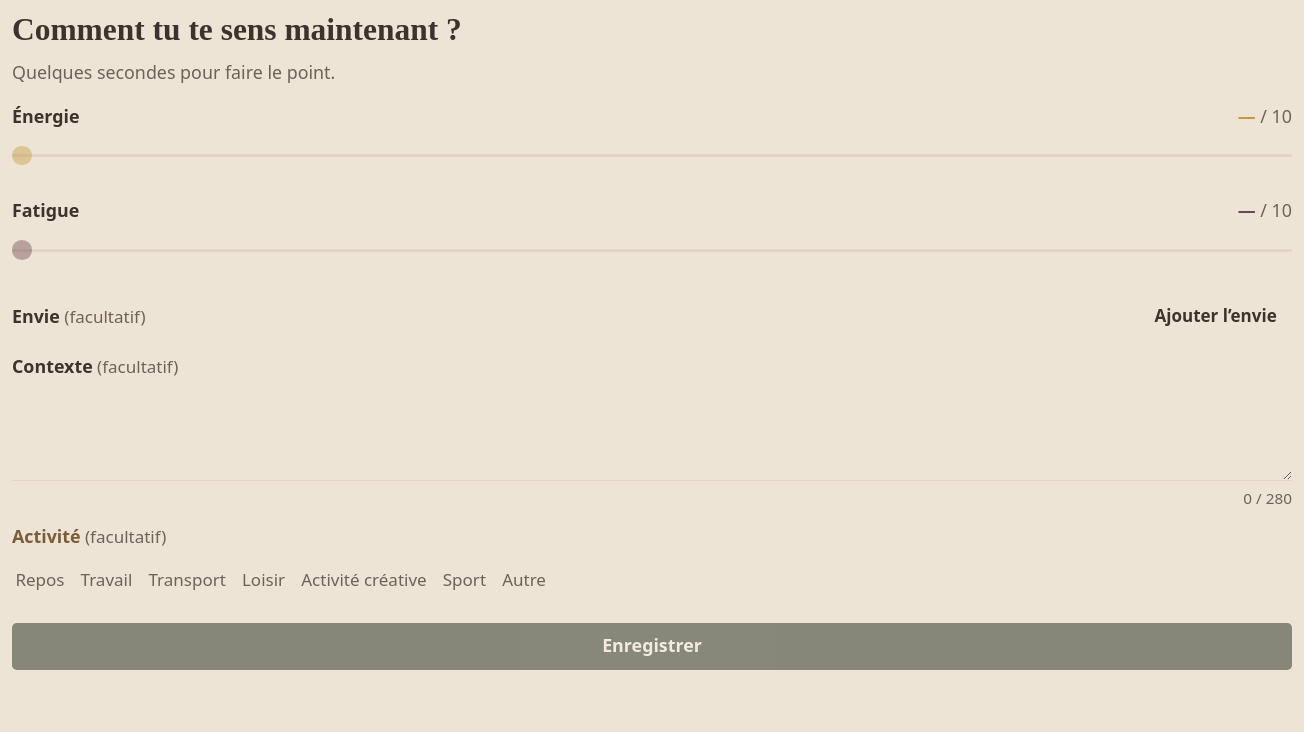
Test: LogPage › erreur API : message clair et valeurs conservées
The image size is (1304, 732).
Press the mouse on the slider labelled "Énergie" at point(652, 156), box 12,132 -> 1292,179
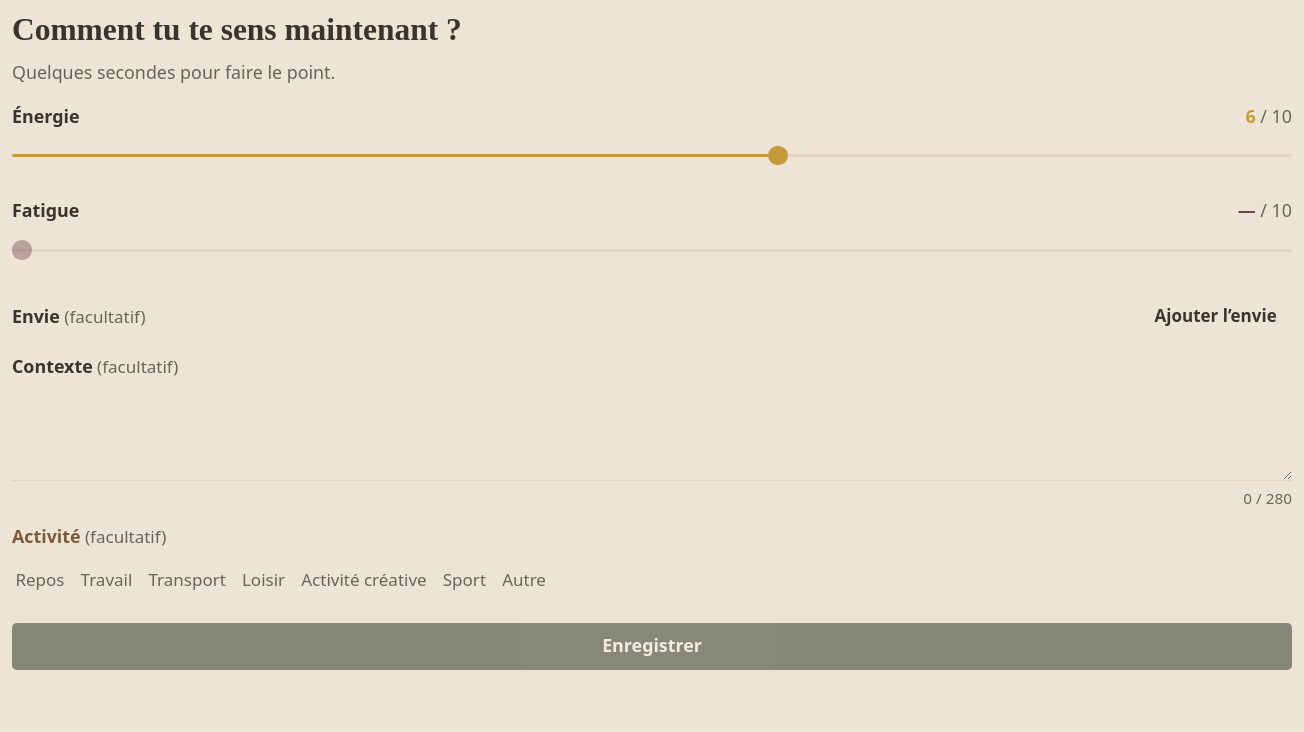
Press the mouse on the slider labelled "Fatigue" at point(652, 250), box 12,227 -> 1292,274
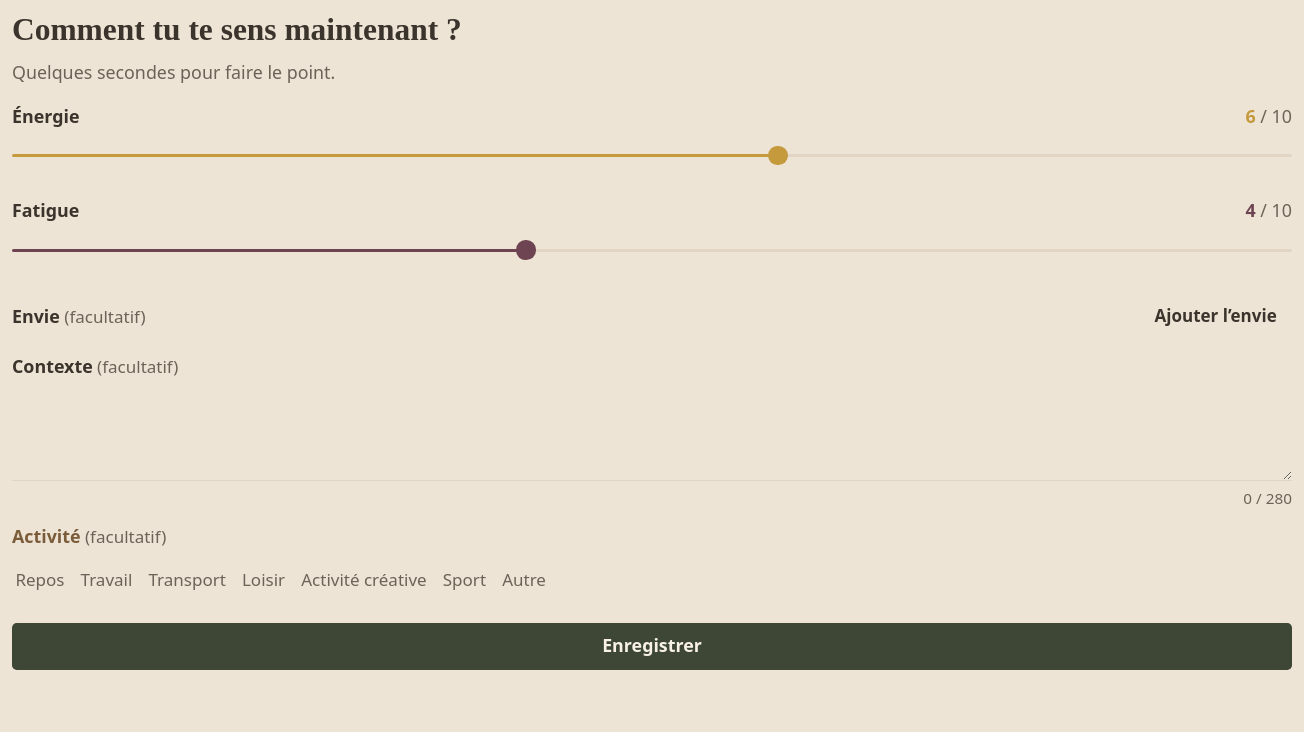
Type "Note conservée" into the text box labelled "Contexte (facultatif)" at point(652, 434), box 12,387 -> 1292,481
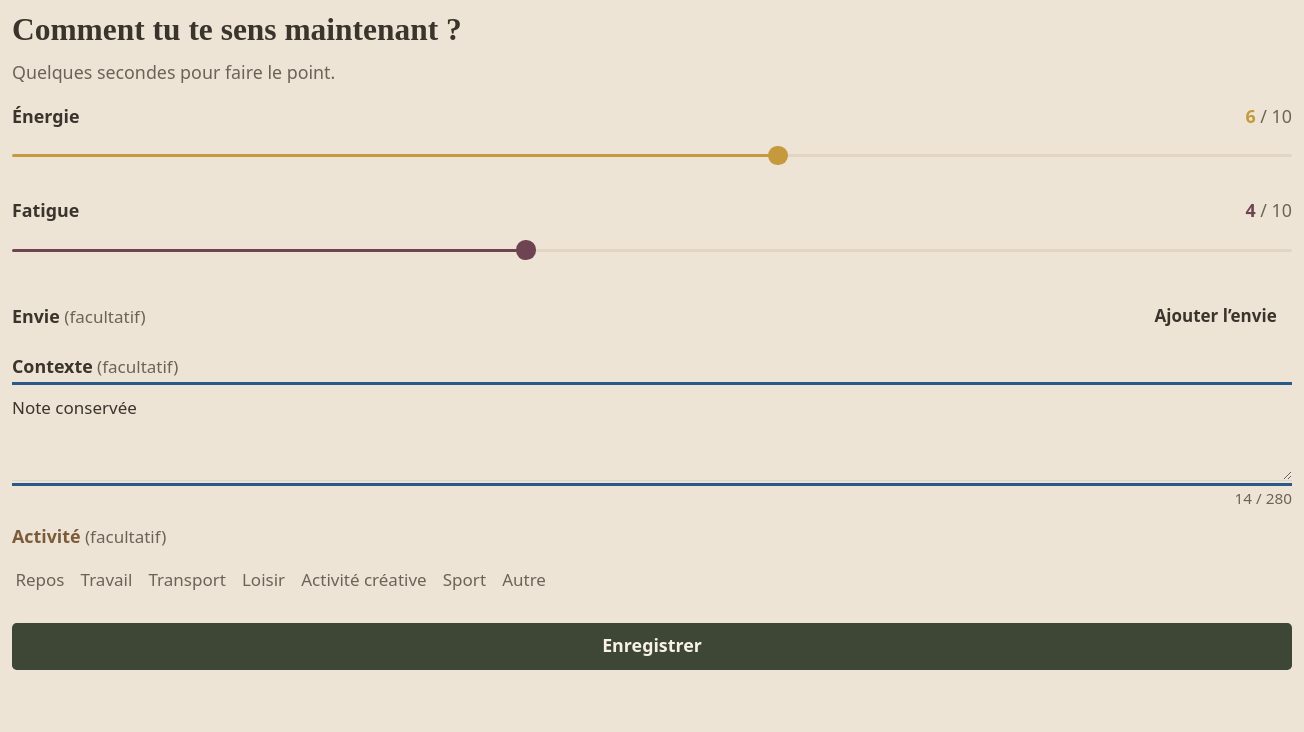
Click the button "Enregistrer" at point(652, 646), box 12,623 -> 1292,670
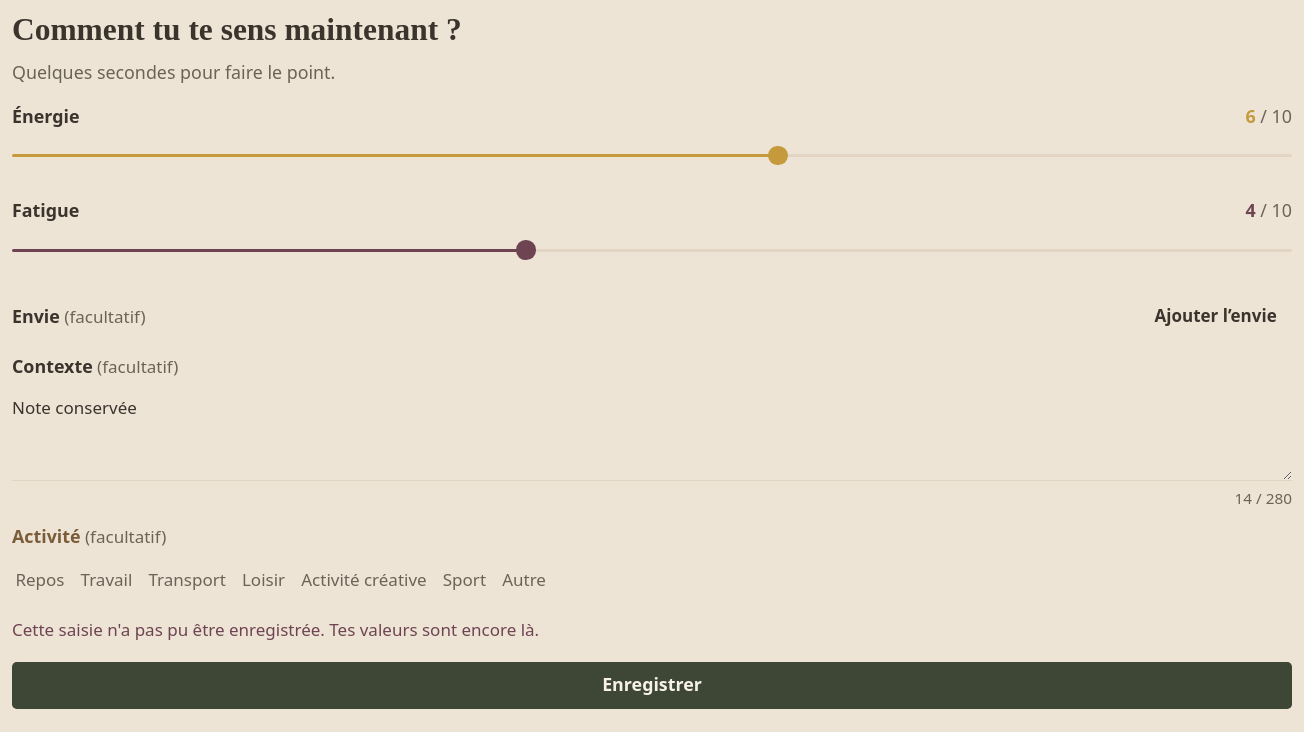
Now the text "6" is shown, box 1245,104 -> 1256,128
Now the text "4" is shown, box 1245,198 -> 1256,222
Now the message reads "Cette saisie n'a pas pu être enregistrée. Tes valeurs sont encore là.", box 12,618 -> 539,641
